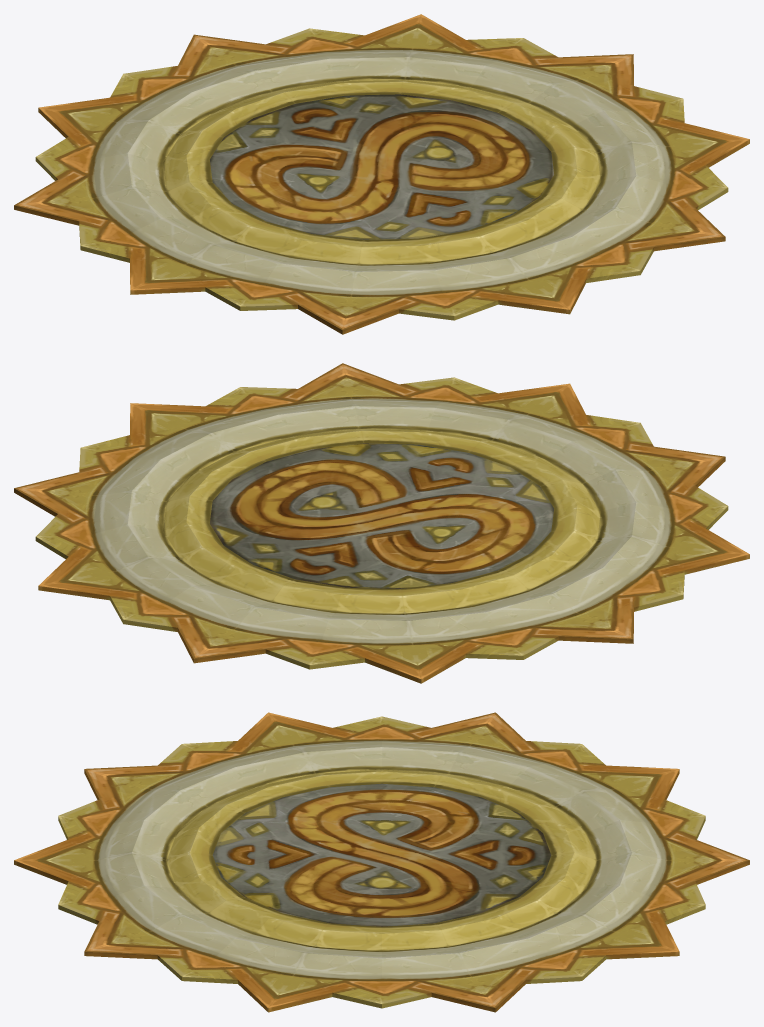
File: floor_decorate_01.FBX
The picture shows the model from 3 angles, top to bottom: view 1: azimuth 30°, elevation 25°; view 2: azimuth 150°, elevation 25°; view 3: azimuth 270°, elevation 25°; orthographic projection. The views are drawn at different scales.
Parts seen in each view (by area): view 1: polySurface787_polySurface1; view 2: polySurface787_polySurface1; view 3: polySurface787_polySurface1.
Part boxes in pixels (x1,y1,x2,y2): polySurface787_polySurface1: (14, 14, 749, 334); polySurface787_polySurface1: (14, 363, 749, 683); polySurface787_polySurface1: (14, 712, 749, 1012).
Bounding box in the file's own units: 396 × 7.44 × 416.
